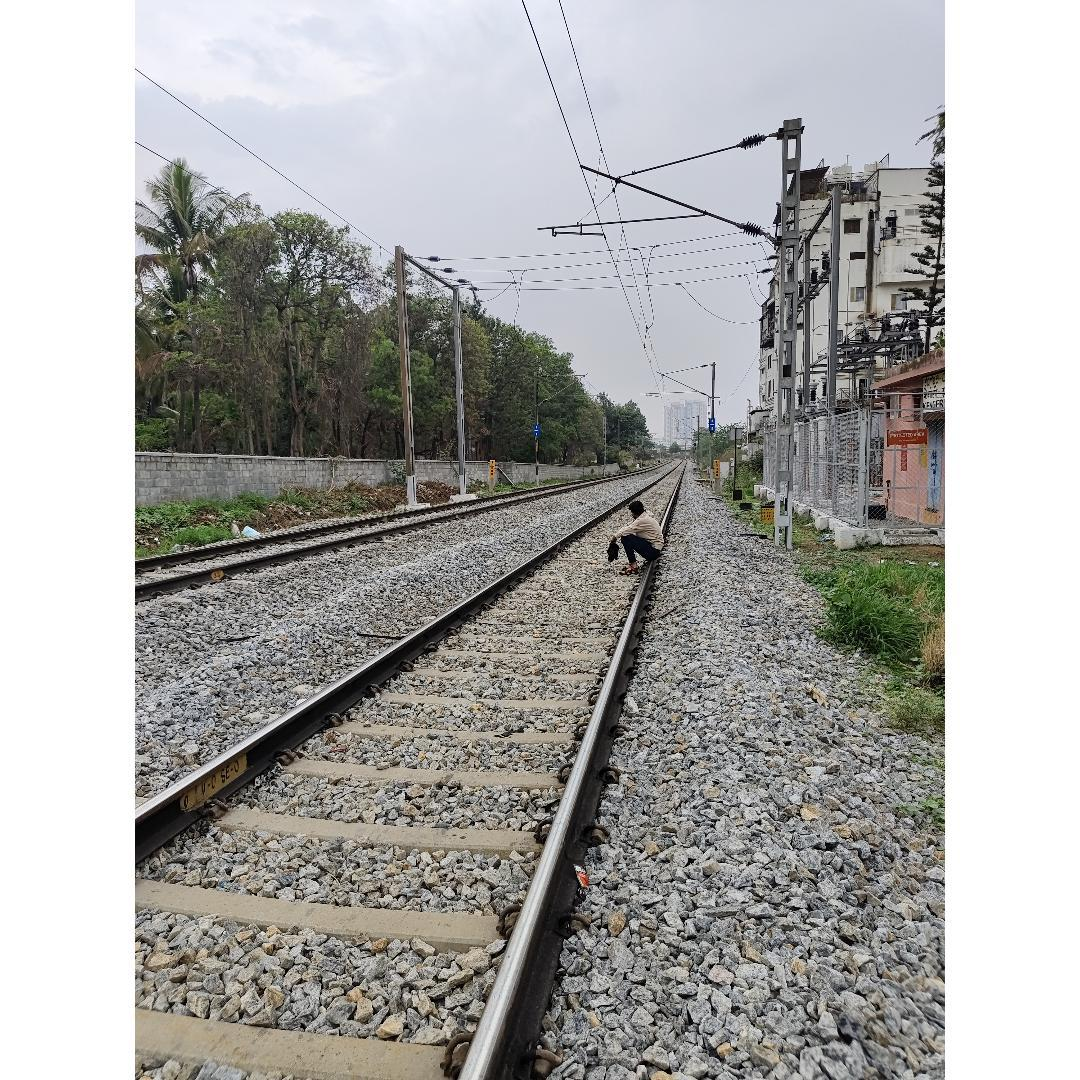sitting: (610, 500, 668, 576)
track: (135, 465, 700, 1080)
